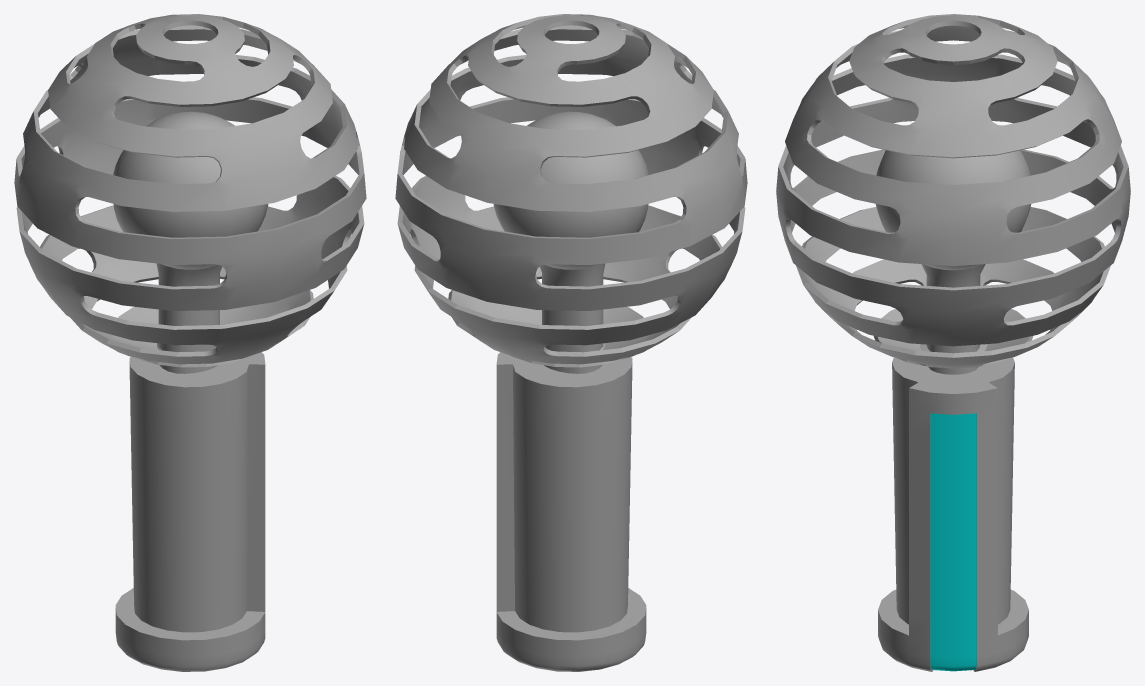
The model's file is Vacuum.fbx.
3 views of the same model, side by side, from view 1: azimuth 30°, elevation 25°; view 2: azimuth 150°, elevation 25°; view 3: azimuth 270°, elevation 25° (orthographic).
Parts seen in each view (by area): view 1: Body1; view 2: Body1; view 3: Body1, Light.
Part boxes in pixels (<box>): Body1: <box>14,14,366,671</box>; Body1: <box>395,14,747,671</box>; Body1: <box>776,14,1130,671</box>; Light: <box>930,413,976,671</box>.
Bounding box in the file's own units: 17.89 × 34.08 × 17.89.
